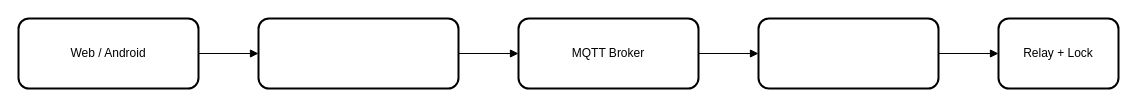
Some shapes in this 1136 by 106 pixel diagram are drawn without their labels. Here are the shapes that lost their labels. From the top down, the centre of each, then its label:
At pixel 358 53: "Supabase".
At pixel 848 53: "ESP8266".
